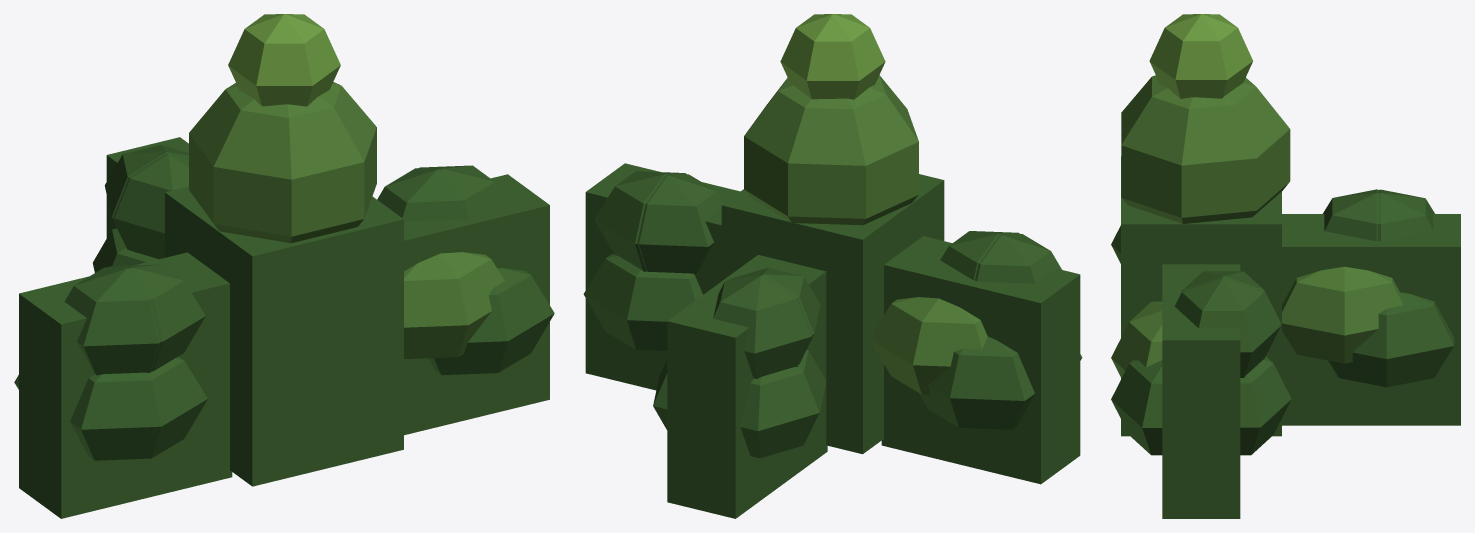
File: boxhedge_tee.glb
3 views of the same model, side by side, from view 1: azimuth 30°, elevation 25°; view 2: azimuth 150°, elevation 25°; view 3: azimuth 270°, elevation 25° (orthographic). The views are drawn at different scales.
Parts seen in each view (by area): view 1: fence_boxhedge_tee; view 2: fence_boxhedge_tee; view 3: fence_boxhedge_tee.
Boxes of the visible parts, x1=… form: fence_boxhedge_tee: x1=14, y1=14, x2=554, y2=518; fence_boxhedge_tee: x1=583, y1=14, x2=1082, y2=518; fence_boxhedge_tee: x1=1111, y1=14, x2=1460, y2=518.
Size of the model in its own units: 2 by 1.68 by 1.35.
